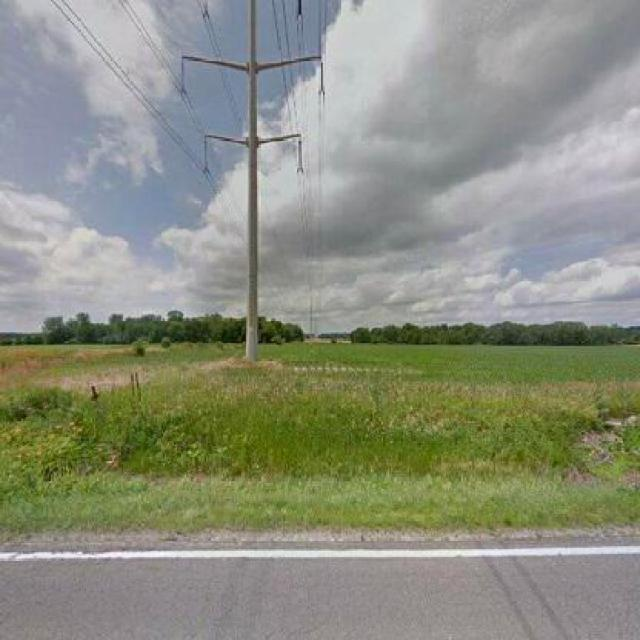crossarm: (182, 52, 323, 82), (208, 134, 302, 152)
pole: (246, 0, 260, 365)
